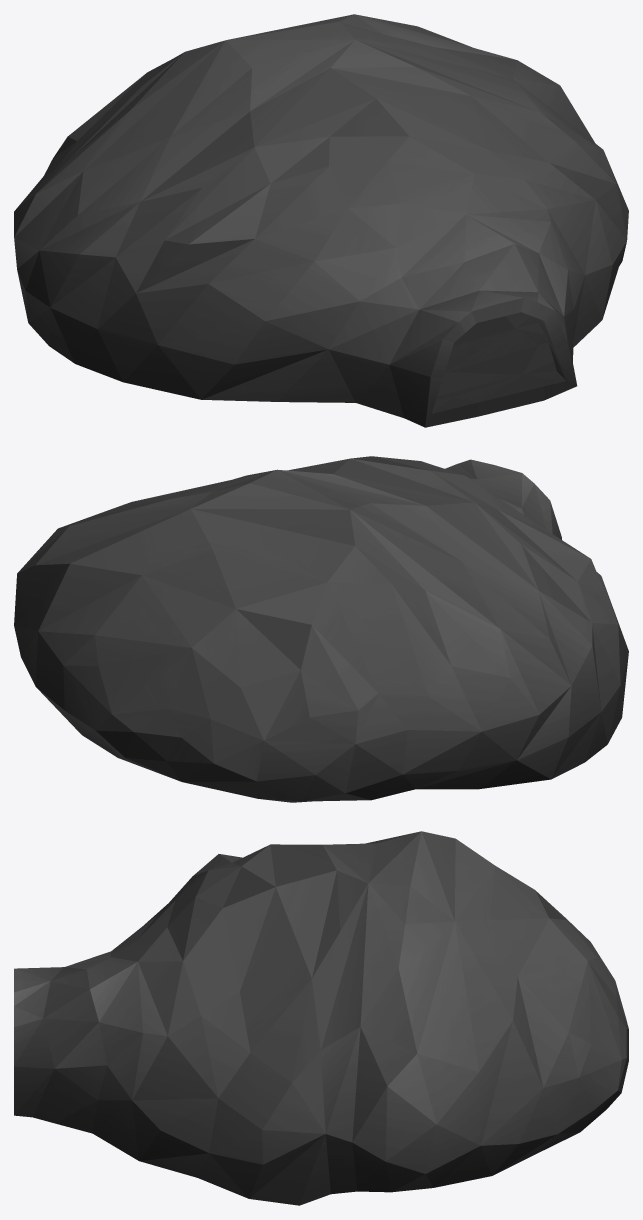
File: GL-Cave-part-08-LOD2.fbx
3 renders of one model, top to bottom at view 1: azimuth 30°, elevation 25°; view 2: azimuth 150°, elevation 25°; view 3: azimuth 270°, elevation 25°, orthographic. The views are drawn at different scales.
Parts seen in each view (by area): view 1: GL_Cave_part_08; view 2: GL_Cave_part_08; view 3: GL_Cave_part_08.
Boxes of the visible parts, x1,y1,x2,y2 form: GL_Cave_part_08: (14, 14, 628, 427); GL_Cave_part_08: (14, 456, 628, 802); GL_Cave_part_08: (14, 831, 628, 1205).
Size of the model in its own units: 12.51 by 4.94 by 12.29.
